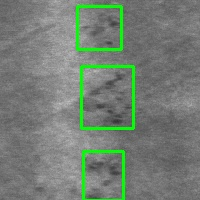rolled-in_scale: (81, 66, 133, 128), (83, 151, 123, 200), (77, 6, 121, 49)
